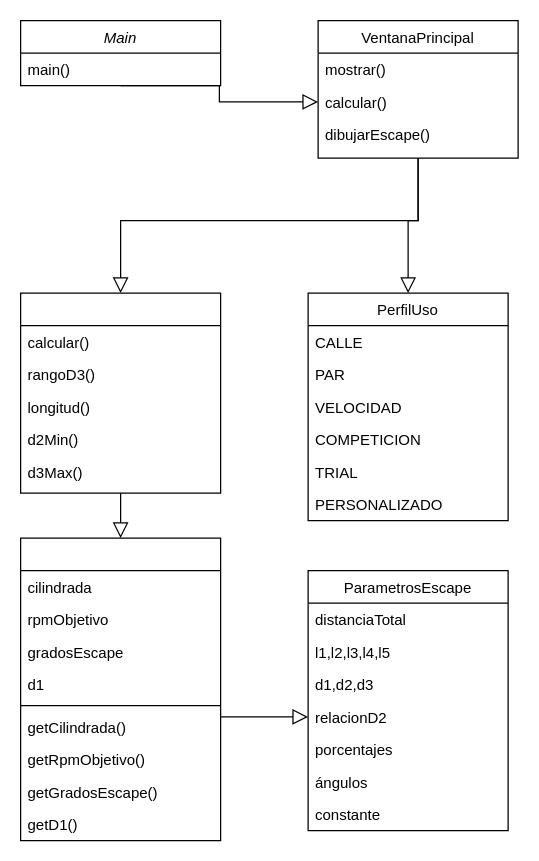
Some shapes in this 539 by 861 pixel diagram are drawn without their labels. Each missing label, with the box of its shape:
CalcualadoraEscape: (19, 292, 221, 493)
Motor: (19, 537, 221, 841)
